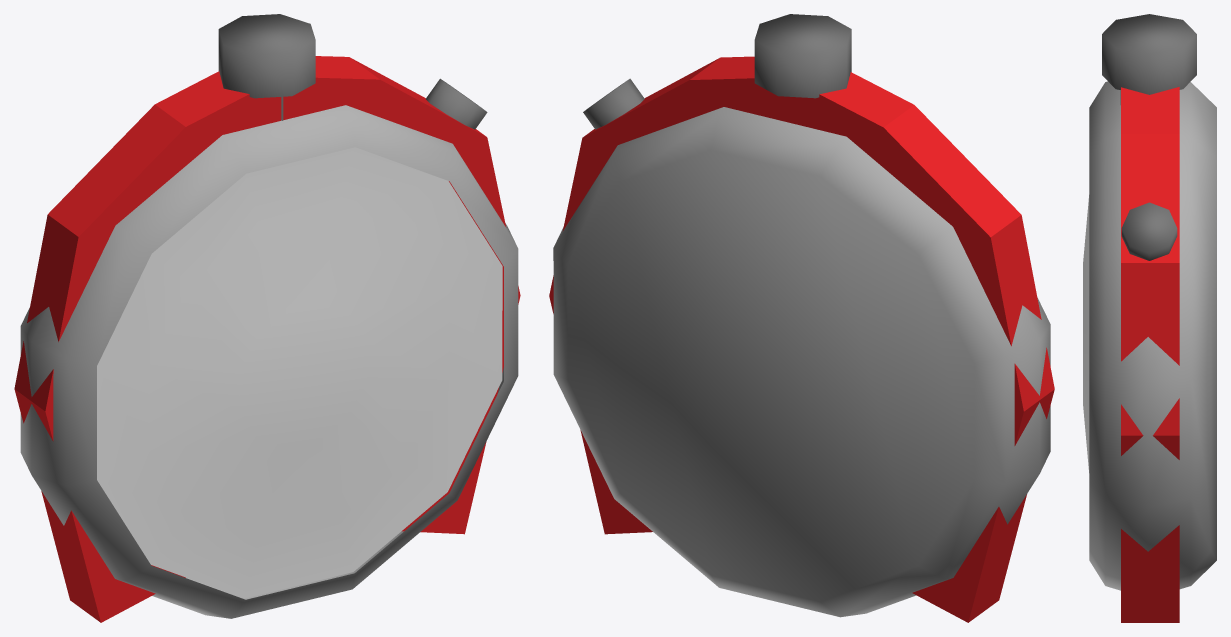
Rendered from Coletáveis (1).fbx.
3 views of the same model, side by side, from view 1: azimuth 30°, elevation 25°; view 2: azimuth 150°, elevation 25°; view 3: azimuth 270°, elevation 25° (orthographic). The views are drawn at different scales.
Visible parts, largest first — view 1: Cronometro, Ímã; view 2: Cronometro, Ímã; view 3: Cronometro, Ímã.
Part boxes in pixels (x1,y1,x2,y2): Cronometro: [20, 14, 518, 618]; Ímã: [14, 56, 520, 622]; Cronometro: [553, 14, 1050, 617]; Ímã: [549, 56, 1054, 622]; Cronometro: [1083, 14, 1216, 590]; Ímã: [1121, 87, 1179, 622].
Size of the model in its own units: 123 by 139 by 31.54.
